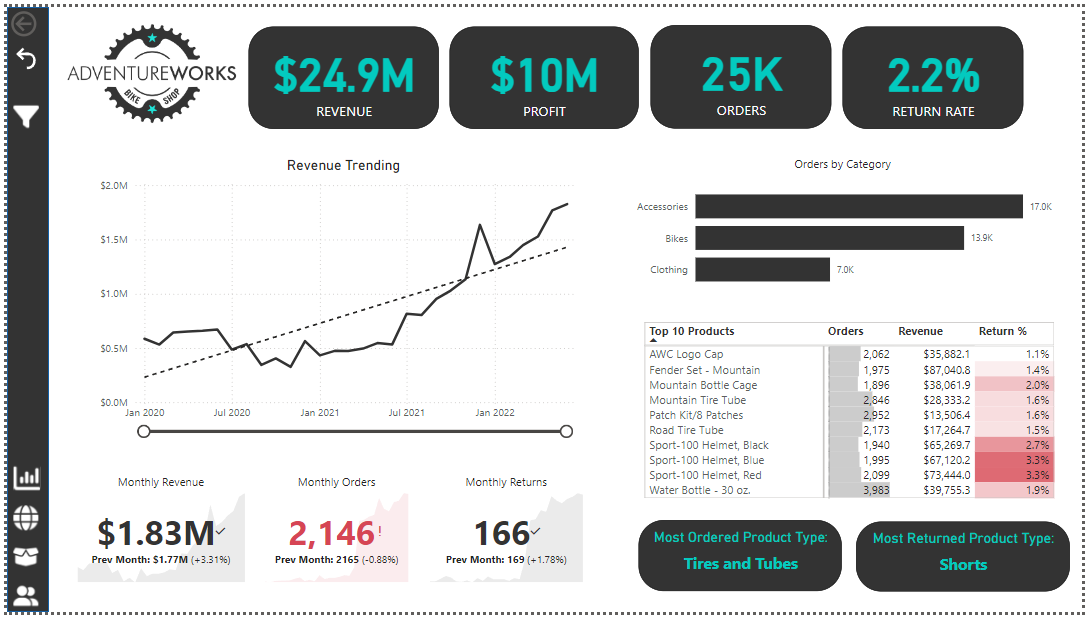

The dashboard page shown, as its layout file describes it:
{"tool":"powerbi","page":{"name":"Exec Dashboard","canvas":[1280,720],"ordinal":0},"visuals":[{"type":"image","title":"AW Logo","box":[45.3,9.4,256.2,140.6],"z":0},{"type":"actionButton","box":[2.5,516.7,45.6,37.8],"z":0,"group":"g1"},{"type":"actionButton","box":[3.3,541.7,48.3,40],"z":0,"group":"g2"},{"type":"kpi","title":"Monthly Revenue","fields":{"Indicator":["Measure Table.Total Revenue"],"TrendLine":["Calendar Lookup.Start of Month"],"Goal":["Measure Table.Previous Month Revenue"]},"box":[78.1,554.7,209.4,134.4],"z":1000},{"type":"actionButton","box":[3.3,563.4,45.6,37.8],"z":1000,"group":"g1"},{"type":"actionButton","box":[4.1,589.1,45.6,37.8],"z":1000,"group":"g2"},{"type":"kpi","title":"Monthly Orders","fields":{"TrendLine":["Calendar Lookup.Start of Month"],"Indicator":["Measure Table.Total Orders"],"Goal":["Measure Table.Previous Month Orders"]},"box":[301.6,554.7,181.2,134.4],"z":2000},{"type":"actionButton","box":[3.3,611.1,45.6,37.8],"z":2000,"group":"g1"},{"type":"actionButton","box":[4.1,636.9,45.6,37.8],"z":2000,"group":"g2"},{"type":"kpi","title":"Monthly Returns","fields":{"TrendLine":["Calendar Lookup.Start of Month"],"Indicator":["Measure Table.Total Returns"],"Goal":["Measure Table.Previous Month Returns"]},"box":[498.4,554.7,192.2,134.4],"z":3000},{"type":"actionButton","box":[3.3,657.8,45.6,37.8],"z":3000,"group":"g1"},{"type":"actionButton","box":[4.1,683.6,45.6,37.8],"z":3000,"group":"g2"},{"type":"clusteredBarChart","title":"Orders by Category","fields":{"Category":["Product Categories Lookup.CategoryName"],"Y":["Measure Table.Total Orders"]},"box":[738.9,177.7,511.2,171.2],"z":4000},{"type":"pivotTable","fields":{"Rows":["Product Lookup.ProductName"],"Values":["Measure Table.Total Orders","Measure Table.Total Revenue","Measure Table.Return Rate"]},"box":[753.7,369.2,511.1,228.4],"z":5000},{"type":"card","title":"Most Ordered Product Type:","fields":{"Values":["Min(Product Subcategories Lookup.SubcategoryName)"]},"box":[751.6,610.9,242.2,84.4],"z":6000},{"type":"card","title":"Most Returned Product Type:","fields":{"Values":["Min(Product Subcategories Lookup.SubcategoryName)"]},"box":[1010,611.7,254.4,83.3],"z":7000},{"type":"actionButton","box":[3.3,5.6,35.6,35.6],"z":8000},{"type":"group","id":"g1","title":"Navigation Buttons","box":[2.5,516.7,46.4,178.9],"z":9000},{"type":"actionButton","box":[3.4,53.1,38.4,39.6],"z":10000},{"type":"shape","box":[0,0,50,720],"z":12000},{"type":"card","fields":{"Values":["Measure Table.Total Revenue"]},"box":[287.5,23.4,226.6,121.9],"z":13000},{"type":"card","fields":{"Values":["Measure Table.Total Profit"]},"box":[526.6,23.4,225,121.9],"z":14000},{"type":"card","fields":{"Values":["Measure Table.Total Orders"]},"box":[765.6,21.9,215.6,123.4],"z":15000},{"type":"card","fields":{"Values":["Measure Table.Return Rate"]},"box":[993.8,23.4,215.6,122],"z":16000},{"type":"actionButton","box":[0,0,100,40],"z":17000},{"type":"lineChart","title":"Revenue Trending","fields":{"Y":["Measure Table.Total Revenue"],"Category":["Calendar Lookup.Start of Year","Calendar Lookup.Start of Month","Calendar Lookup.Start of Week","Calendar Lookup.Date"]},"box":[104.9,178.7,590.2,337.7],"z":18000},{"type":"group","id":"g2","title":"Navigation Buttons","box":[3.3,541.7,48.3,178.3],"z":19000},{"type":"actionButton","box":[5,43.3,35,36.7],"z":20000},{"type":"actionButton","box":[3.3,110,38.3,40],"z":21000}]}

Visuals, with their boxes on the page's 1280x720 design canvas (x1, y1, x2, y2). These are canvas units, not pixel positions in the 1092x618 screenshot, which may show the page scaled, cropped or inside an application window:
"AW Logo" image: 45:9:302:150
actionButton: 2:517:48:554
actionButton: 3:542:52:582
"Monthly Revenue" kpi: 78:555:288:689
actionButton: 3:563:49:601
actionButton: 4:589:50:627
"Monthly Orders" kpi: 302:555:483:689
actionButton: 3:611:49:649
actionButton: 4:637:50:675
"Monthly Returns" kpi: 498:555:691:689
actionButton: 3:658:49:696
actionButton: 4:684:50:721
"Orders by Category" clusteredBarChart: 739:178:1250:349
pivotTable - Product Lookup.ProductName x Measure Table.Total Orders: 754:369:1265:598
"Most Ordered Product Type:" card: 752:611:994:695
"Most Returned Product Type:" card: 1010:612:1264:695
actionButton: 3:6:39:41
"Navigation Buttons" group: 2:517:49:696
actionButton: 3:53:42:93
shape: 0:0:50:720
card - Measure Table.Total Revenue: 288:23:514:145
card - Measure Table.Total Profit: 527:23:752:145
card - Measure Table.Total Orders: 766:22:981:145
card - Measure Table.Return Rate: 994:23:1209:145
actionButton: 0:0:100:40
"Revenue Trending" lineChart: 105:179:695:516
"Navigation Buttons" group: 3:542:52:720
actionButton: 5:43:40:80
actionButton: 3:110:42:150
